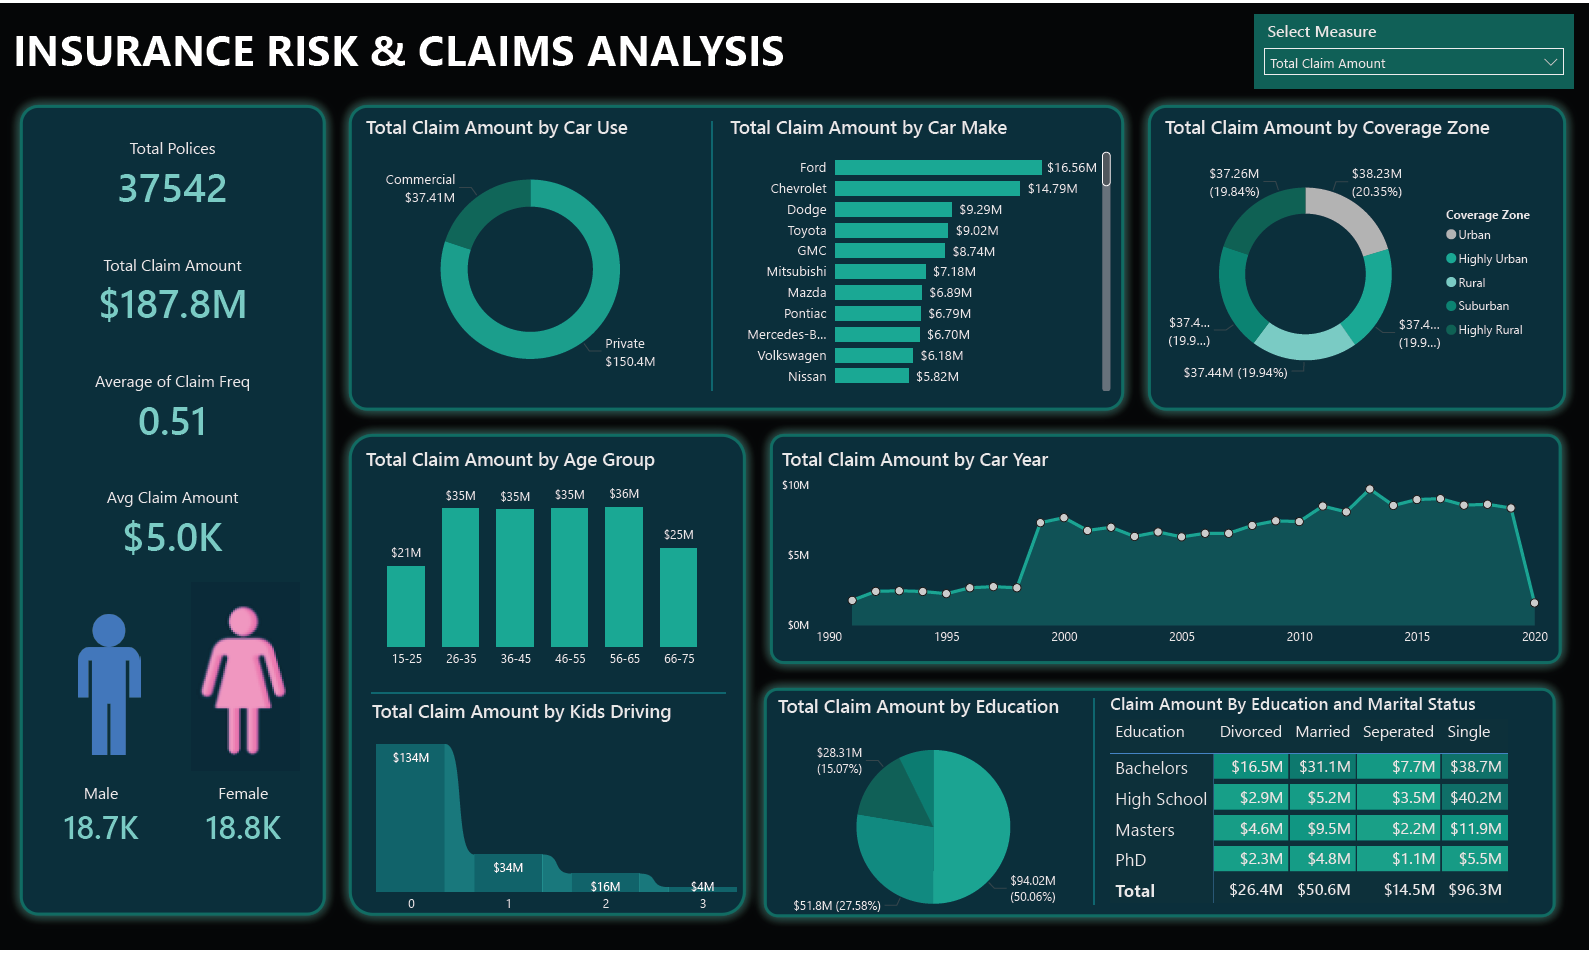

The dashboard page shown, as its layout file describes it:
{"tool":"powerbi","page":{"name":"Page 1","canvas":[1600,950],"ordinal":0},"visuals":[{"type":"textbox","box":[9.5,11.4,791.3,77.8],"z":0},{"type":"shape","box":[9.4,89.8,330.7,838.6],"z":1000},{"type":"cardVisual","fields":{"Data":["insurance_data_car.Total Polices","insurance_data_car.Total Claim Amount","Avg(insurance_data_car.Claim Freq)","insurance_data_car.Avg Claim Amount"]},"box":[40.2,115.7,269.3,460.6],"z":2000},{"type":"cardVisual","fields":{"Data":["insurance_data_car.Male Count","insurance_data_car.Female Count"]},"box":[36.1,759,277,110.1],"z":3000},{"type":"image","box":[39.8,609.1,142.3,149.9],"z":4000},{"type":"image","box":[174.6,576.8,146.1,199.2],"z":5000},{"type":"slicer","fields":{"Values":["Select Measure.Select Measure"]},"box":[1261.8,11.4,320.7,74],"z":6000},{"type":"shape","box":[340.2,89.8,803.2,330.7],"z":7000},{"type":"donutChart","fields":{"Category":["insurance_data_car.Car Use"],"Y":["insurance_data_car.Total Claim Amount"]},"box":[363.8,111,340.2,285.8],"z":8000},{"type":"clusteredBarChart","fields":{"Category":["insurance_data_car.Car Make"],"Y":["insurance_data_car.Total Claim Amount"]},"box":[729.9,111,392.1,283.5],"z":9000},{"type":"shape","box":[1143.3,89.8,444.1,330.7],"z":10000},{"type":"donutChart","fields":{"Y":["insurance_data_car.Total Claim Amount"],"Category":["insurance_data_car.Coverage Zone"]},"box":[1166.9,111,394.5,295.3],"z":11000},{"type":"shape","box":[340.2,420.5,422.8,507.9],"z":12000},{"type":"clusteredColumnChart","fields":{"Category":["insurance_data_car.Age Group"],"Y":["insurance_data_car.Total Claim Amount"]},"box":[363.8,444.1,366.1,231.5],"z":13000},{"type":"ribbonChart","fields":{"Y":["insurance_data_car.Total Claim Amount"],"Category":["insurance_data_car.Kids Driving"]},"box":[370,698.3,381.4,223.9],"z":14000},{"type":"shape","box":[763,420.5,819.7,255],"z":15000},{"type":"areaChart","fields":{"Category":["insurance_data_car.Car Year"],"Y":["insurance_data_car.Total Claim Amount"]},"box":[781.9,444.1,779.5,210.2],"z":16000},{"type":"shape","box":[757.1,675.5,819.7,254.3],"z":17000},{"type":"pieChart","fields":{"Category":["insurance_data_car.Education"],"Y":["insurance_data_car.Total Claim Amount"]},"box":[778,692.6,322.6,242.9],"z":18000},{"type":"pivotTable","title":"Claim Amount By Education and Marital Status","fields":{"Values":["insurance_data_car.Total Claim Amount"],"Rows":["insurance_data_car.Education"],"Columns":["insurance_data_car.Marital Status"]},"box":[1111.9,690.7,434.5,218.2],"z":19000},{"type":"shape","box":[677.4,117.6,79.7,271.3],"z":20000},{"type":"shape","box":[1060.7,698.3,79.7,206.8],"z":20001},{"type":"shape","box":[373.8,652.7,356.7,79.7],"z":20003}]}

Visuals, with their boxes in screenshot pixels (x1, y1, x2, y2), scaled from the page's 1600x950 canvas onto the 1589x955 screenshot:
textbox: 9, 11, 795, 90
shape: 9, 90, 338, 933
cardVisual - insurance_data_car.Total Polices x insurance_data_car.Total Claim Amount: 40, 116, 307, 579
cardVisual - insurance_data_car.Male Count x insurance_data_car.Female Count: 36, 763, 311, 874
image: 40, 612, 181, 763
image: 173, 580, 318, 780
slicer - Select Measure.Select Measure: 1253, 11, 1572, 86
shape: 338, 90, 1136, 423
donutChart - insurance_data_car.Car Use x insurance_data_car.Total Claim Amount: 361, 112, 699, 399
clusteredBarChart - insurance_data_car.Car Make x insurance_data_car.Total Claim Amount: 725, 112, 1114, 397
shape: 1135, 90, 1576, 423
donutChart - insurance_data_car.Total Claim Amount x insurance_data_car.Coverage Zone: 1159, 112, 1551, 408
shape: 338, 423, 758, 933
clusteredColumnChart - insurance_data_car.Age Group x insurance_data_car.Total Claim Amount: 361, 446, 725, 679
ribbonChart - insurance_data_car.Total Claim Amount x insurance_data_car.Kids Driving: 367, 702, 746, 927
shape: 758, 423, 1572, 679
areaChart - insurance_data_car.Car Year x insurance_data_car.Total Claim Amount: 777, 446, 1551, 658
shape: 752, 679, 1566, 935
pieChart - insurance_data_car.Education x insurance_data_car.Total Claim Amount: 773, 696, 1093, 940
"Claim Amount By Education and Marital Status" pivotTable: 1104, 694, 1536, 914
shape: 673, 118, 752, 391
shape: 1053, 702, 1133, 910
shape: 371, 656, 725, 736
